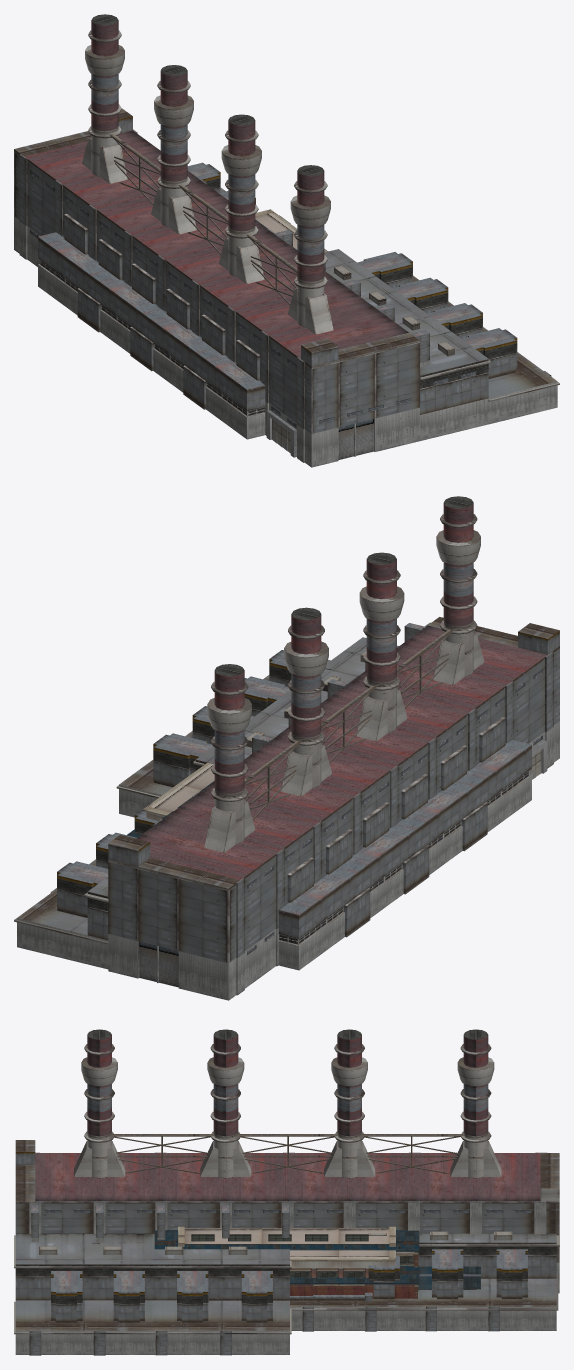
The model's file is bld_ind.glb.
3 views of the same model, one above another, from view 1: azimuth 30°, elevation 25°; view 2: azimuth 150°, elevation 25°; view 3: azimuth 270°, elevation 25° (orthographic). The views are drawn at different scales.
Parts seen in each view (by area): view 1: ind_13, ind_02; view 2: ind_13, ind_02; view 3: ind_13, ind_02, ind_04, ind_05, ind_09.
Boxes of the visible parts, x1,y1,x2,y2 form: ind_13: [14, 14, 559, 467]; ind_02: [255, 209, 362, 298]; ind_13: [14, 496, 559, 1000]; ind_02: [142, 762, 214, 820]; ind_13: [14, 1029, 559, 1355]; ind_02: [178, 1226, 395, 1277]; ind_04: [154, 1230, 419, 1298]; ind_05: [418, 1266, 480, 1289]; ind_09: [208, 1292, 372, 1301].
Size of the model in its own units: 99.29 by 89.08 by 191.
9 materials, 9 textured.
